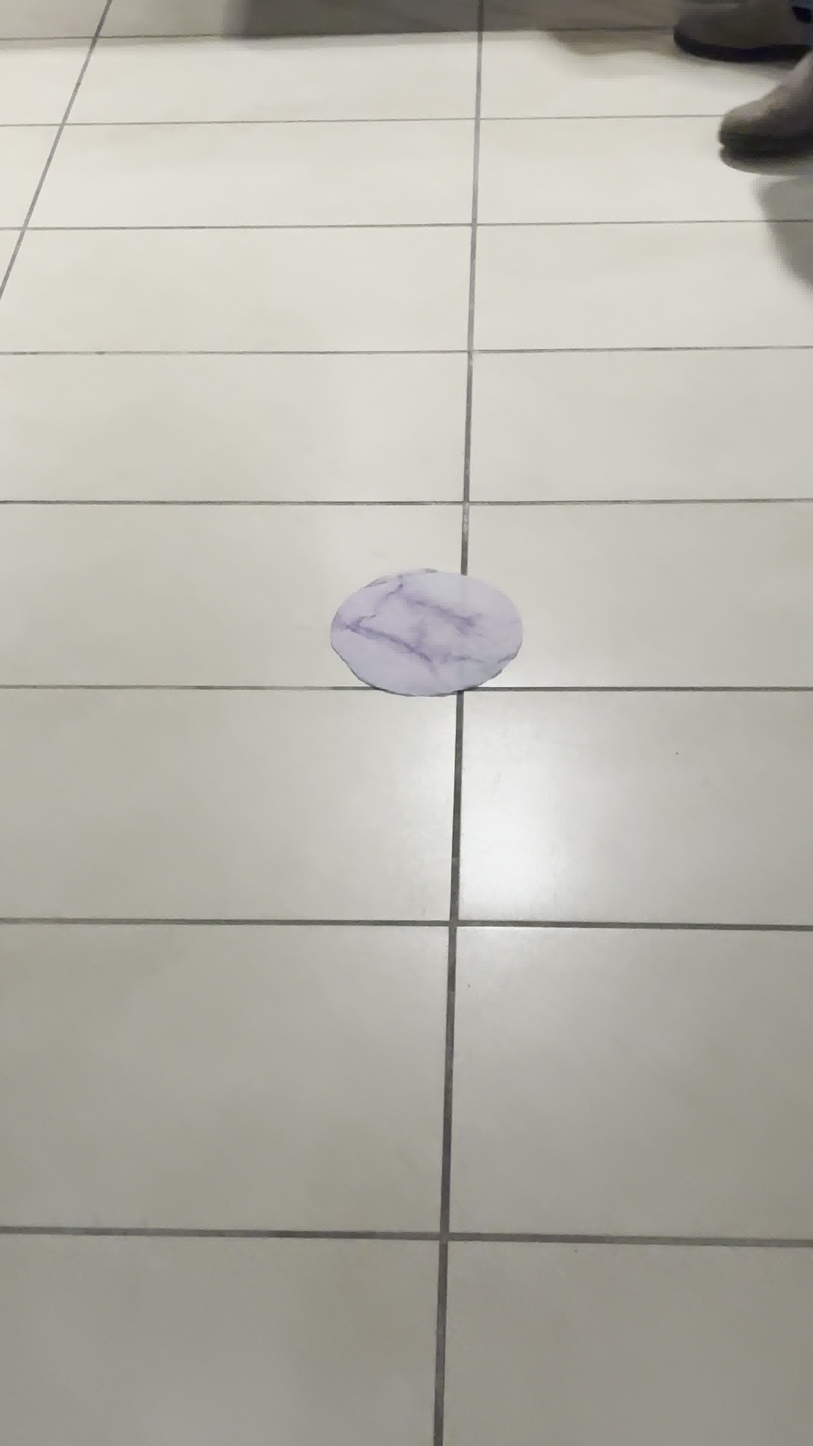Target: (328, 570, 524, 696)
